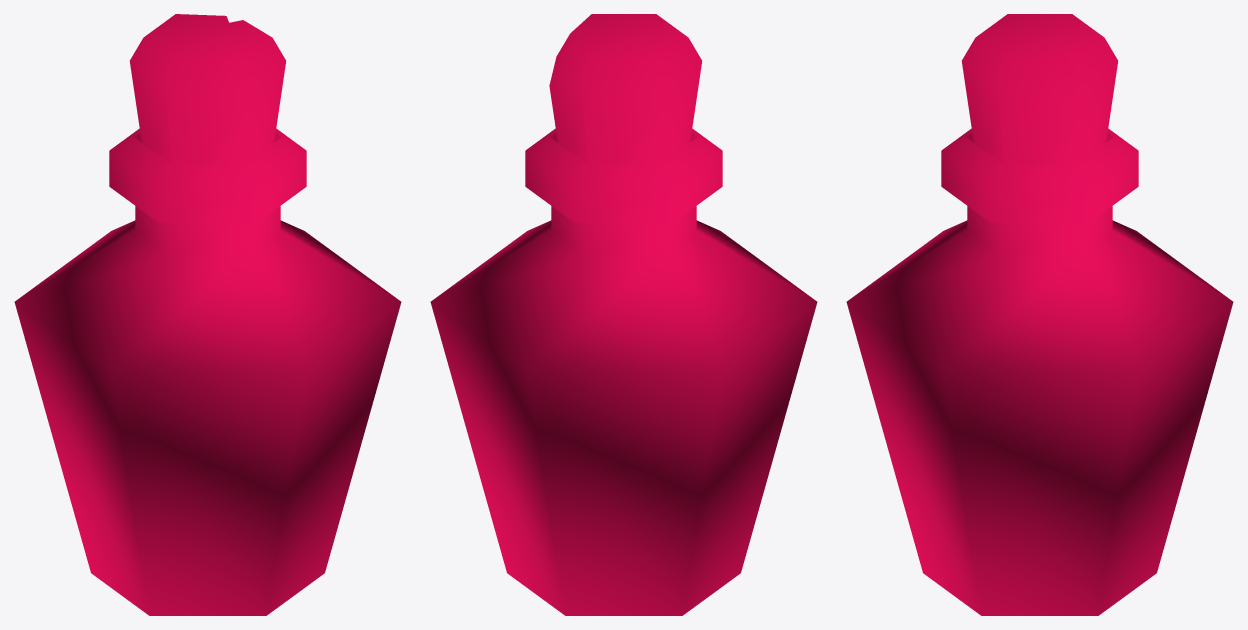
File: Health.fbx
The picture shows the model from 3 angles, left to right: view 1: azimuth 30°, elevation 25°; view 2: azimuth 150°, elevation 25°; view 3: azimuth 270°, elevation 25°; orthographic projection.
Parts seen in each view (by area): view 1: Health; view 2: Health; view 3: Health.
Boxes of the visible parts, left/top/right/bottom form: Health: left=14, top=14, right=401, bottom=615; Health: left=430, top=14, right=817, bottom=615; Health: left=846, top=14, right=1233, bottom=615.
Bounding box in the file's own units: 262 × 462 × 303.
